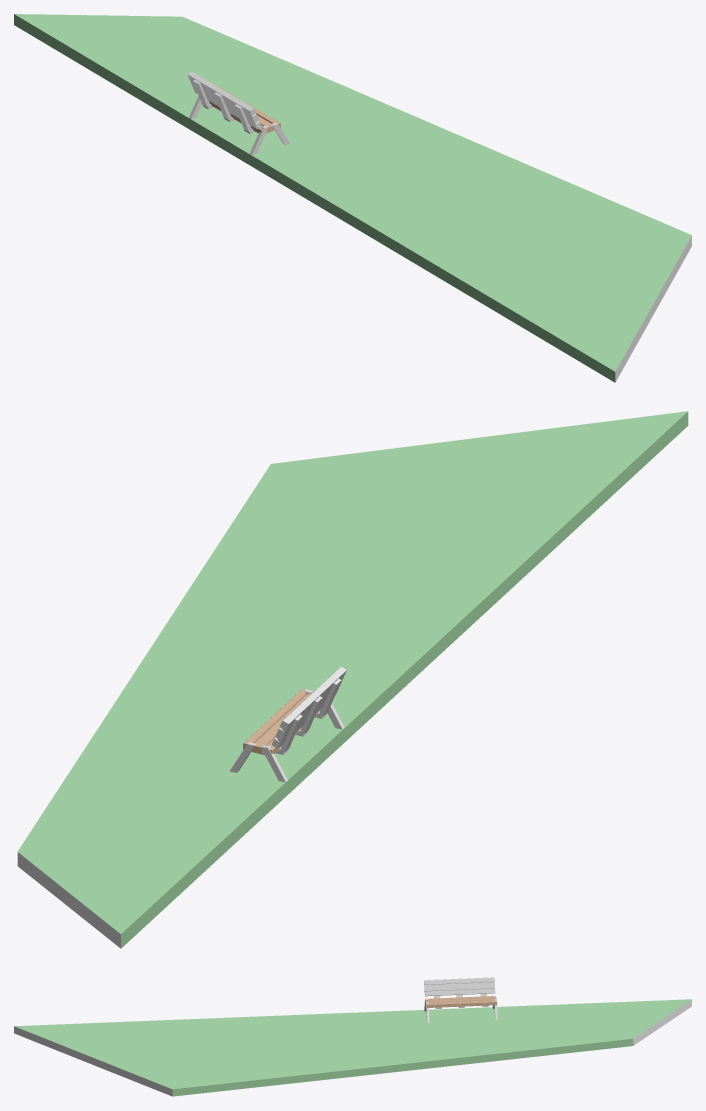
3 views of the same model, one above another, from view 1: azimuth 30°, elevation 25°; view 2: azimuth 150°, elevation 25°; view 3: azimuth 270°, elevation 25° (orthographic). The views are drawn at different scales.
Visible parts, largest first — view 1: Mesh1 Model, Mesh3 Model; view 2: Mesh1 Model, Mesh3 Model, Mesh2 Model; view 3: Mesh1 Model, Mesh3 Model, Mesh2 Model.
Part boxes in pixels (x1,y1,x2,y2): Mesh1 Model: (14,14,691,382); Mesh3 Model: (187,71,261,129); Mesh1 Model: (17,411,688,948); Mesh3 Model: (272,666,346,748); Mesh2 Model: (243,689,320,755); Mesh1 Model: (14,999,691,1096); Mesh3 Model: (424,977,495,996); Mesh2 Model: (425,996,496,1007).
Bounding box in the file's own units: 13.38 × 2.6 × 42.5.
